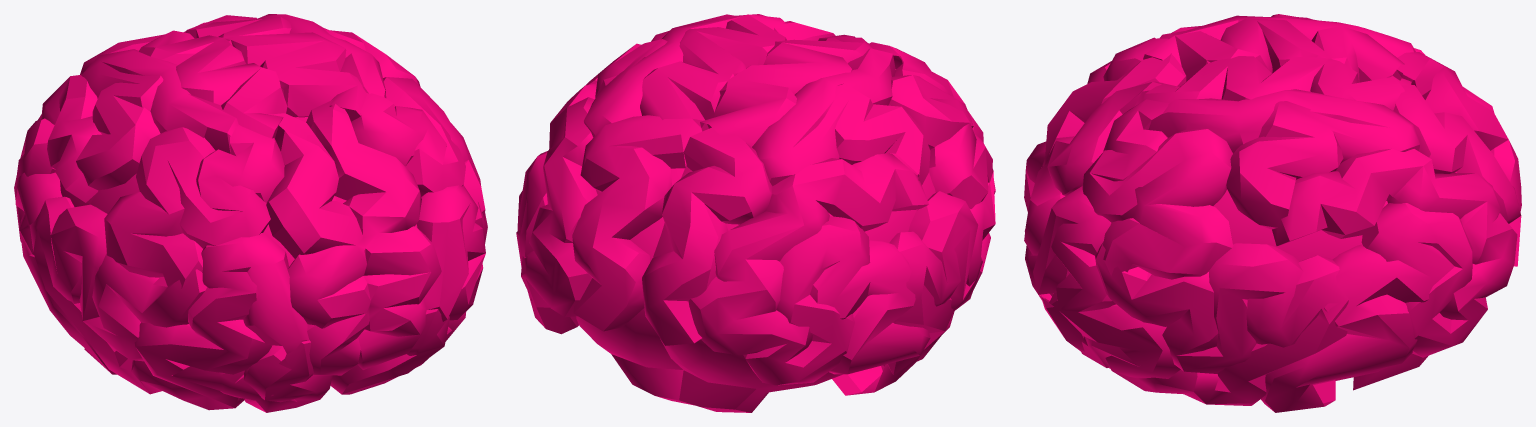
Rendered from Brain.fbx.
3 renders of one model, left to right at view 1: azimuth 30°, elevation 25°; view 2: azimuth 150°, elevation 25°; view 3: azimuth 270°, elevation 25°, orthographic.
Parts seen in each view (by area): view 1: Brain; view 2: Brain; view 3: Brain.
Boxes of the visible parts, <box> form: Brain: <box>14,14,487,412</box>; Brain: <box>516,14,995,412</box>; Brain: <box>1024,14,1521,412</box>.
Size of the model in its own units: 29.96 by 23.65 by 33.17.
